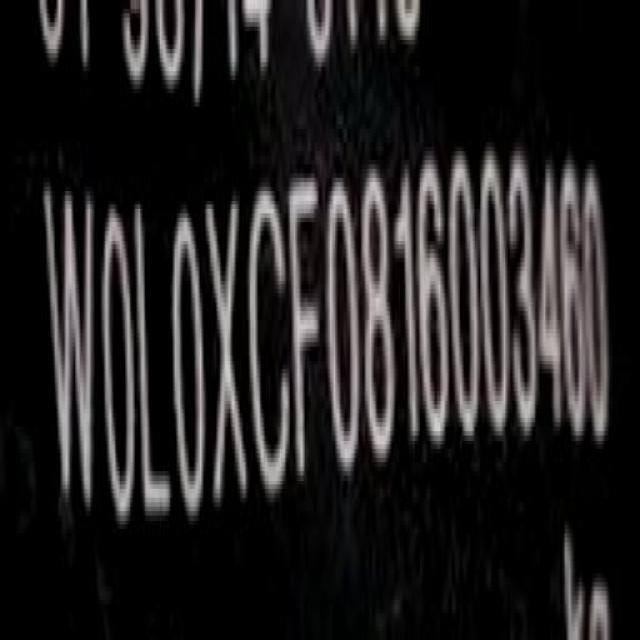0: (171, 200, 208, 529), (103, 198, 138, 536), (327, 173, 363, 479), (450, 152, 482, 447), (480, 152, 510, 444), (585, 165, 614, 448)
1: (396, 161, 418, 465)
3: (510, 152, 539, 442)
4: (540, 154, 564, 444)
6: (416, 156, 451, 456), (558, 158, 584, 446)
8: (362, 166, 395, 475)
C: (248, 186, 292, 508)
F: (289, 174, 323, 484)
L: (134, 198, 168, 532)
W: (46, 184, 100, 534)
X: (209, 198, 248, 520)
